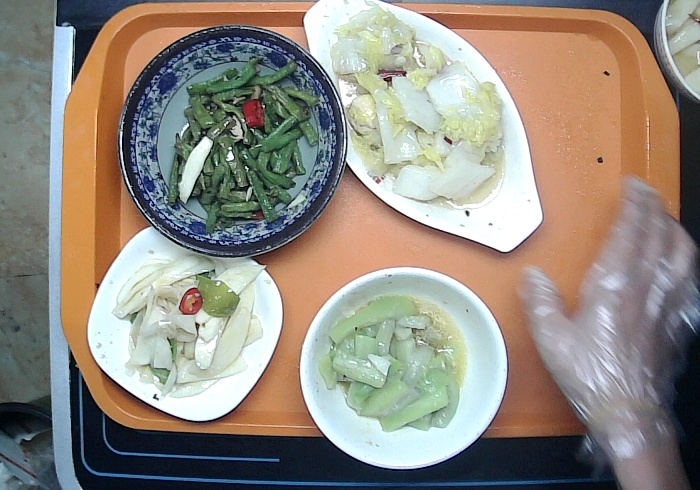ZNLD-Qing_Hua_Wan: (112, 18, 353, 262)
ZNLD-Si_Fang_Wan: (84, 223, 287, 430)
ZNLD-Tang_Wan: (295, 263, 511, 475)
ZNLD-Yu_Pan: (298, 1, 548, 257)
